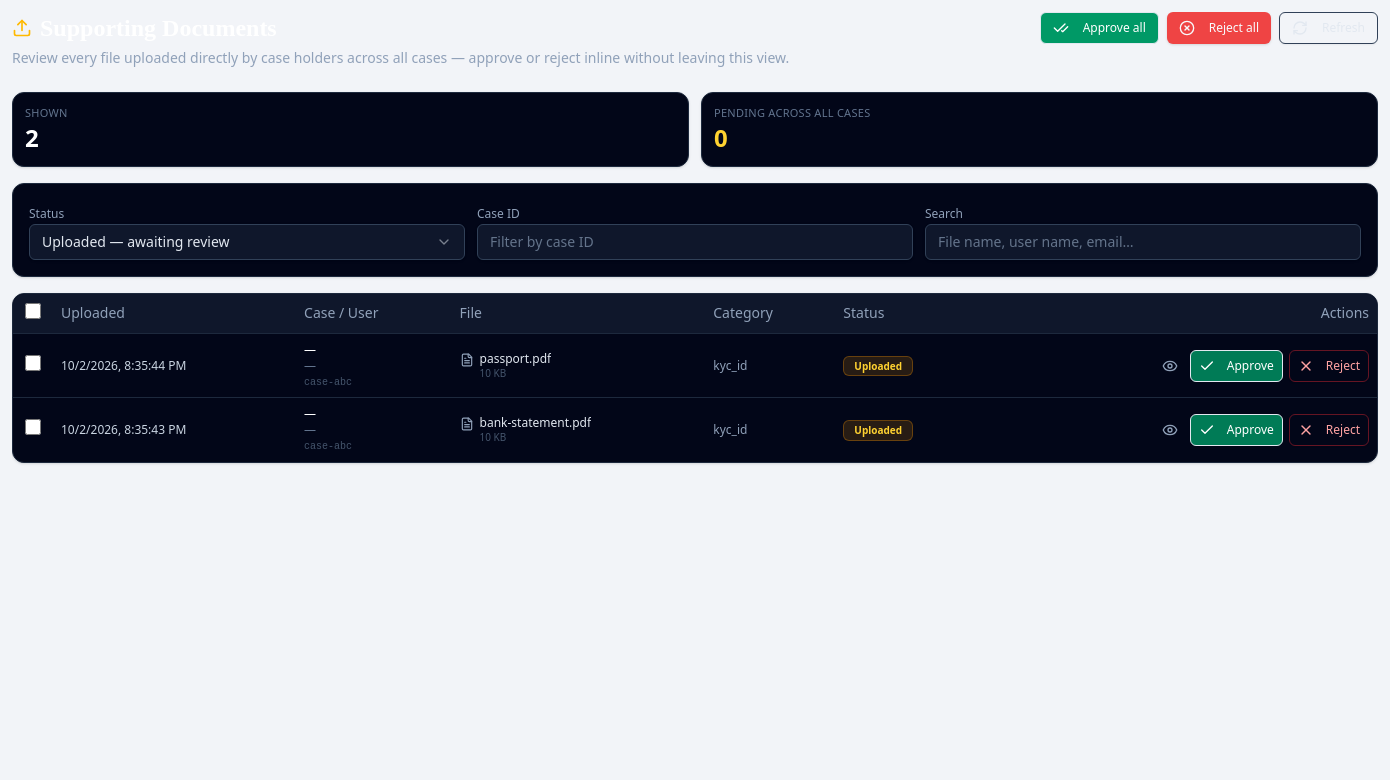
Scenario: SupportingDocumentsTab – selection persistence (Task #455) › selected IDs absent from the new result set are dropped after server reload
Expected: the row with test id "row-supporting-doc-10" is shown, [13,334,1377,398]
Click the checkbox named "Select document passport.pdf". click: (33, 363)
box: [25,355,41,371]
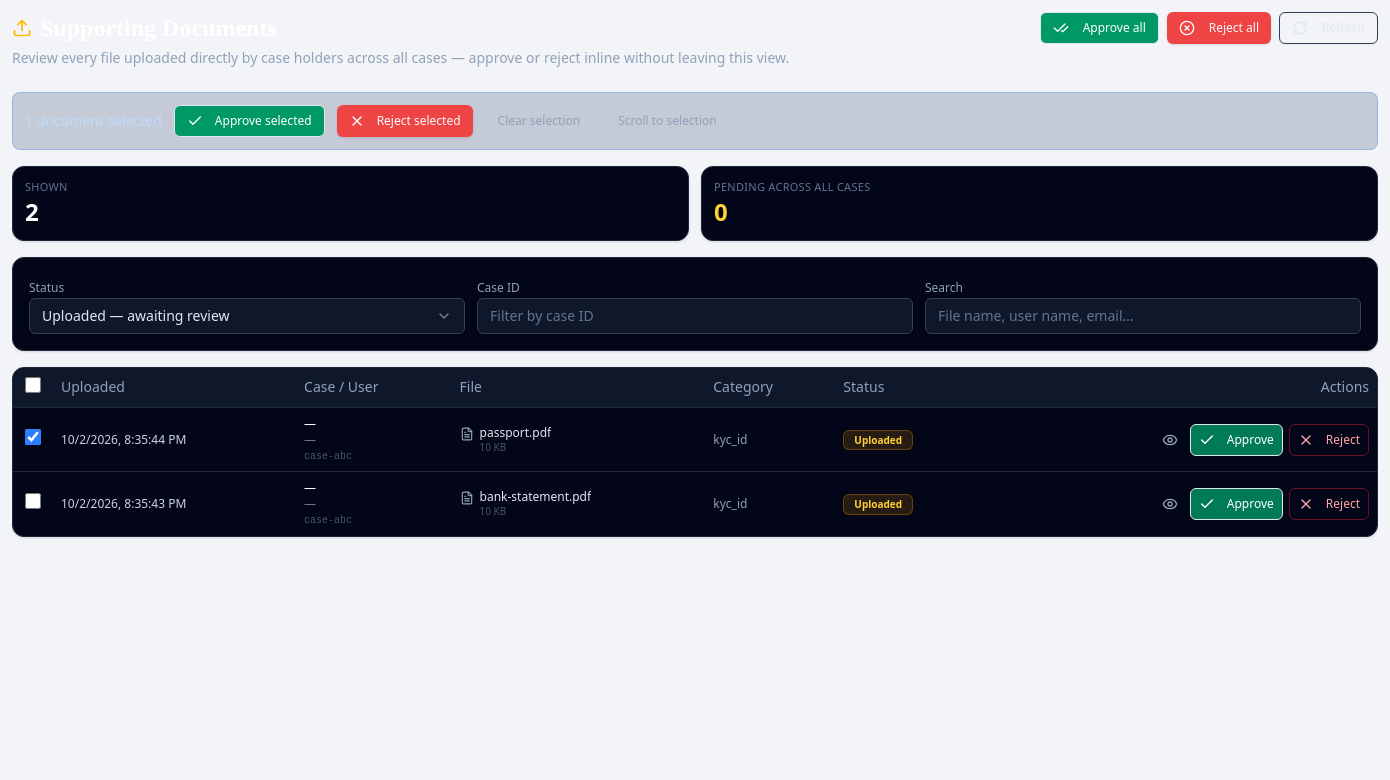
Now the element with test id "toolbar-selection-supporting-docs" is shown, box [12,92,1378,150]
Type "case-abc" into the field with test id "filter-supporting-docs-case-id". click: (695, 316)
box: [477,298,913,334]
Wait 350 ms
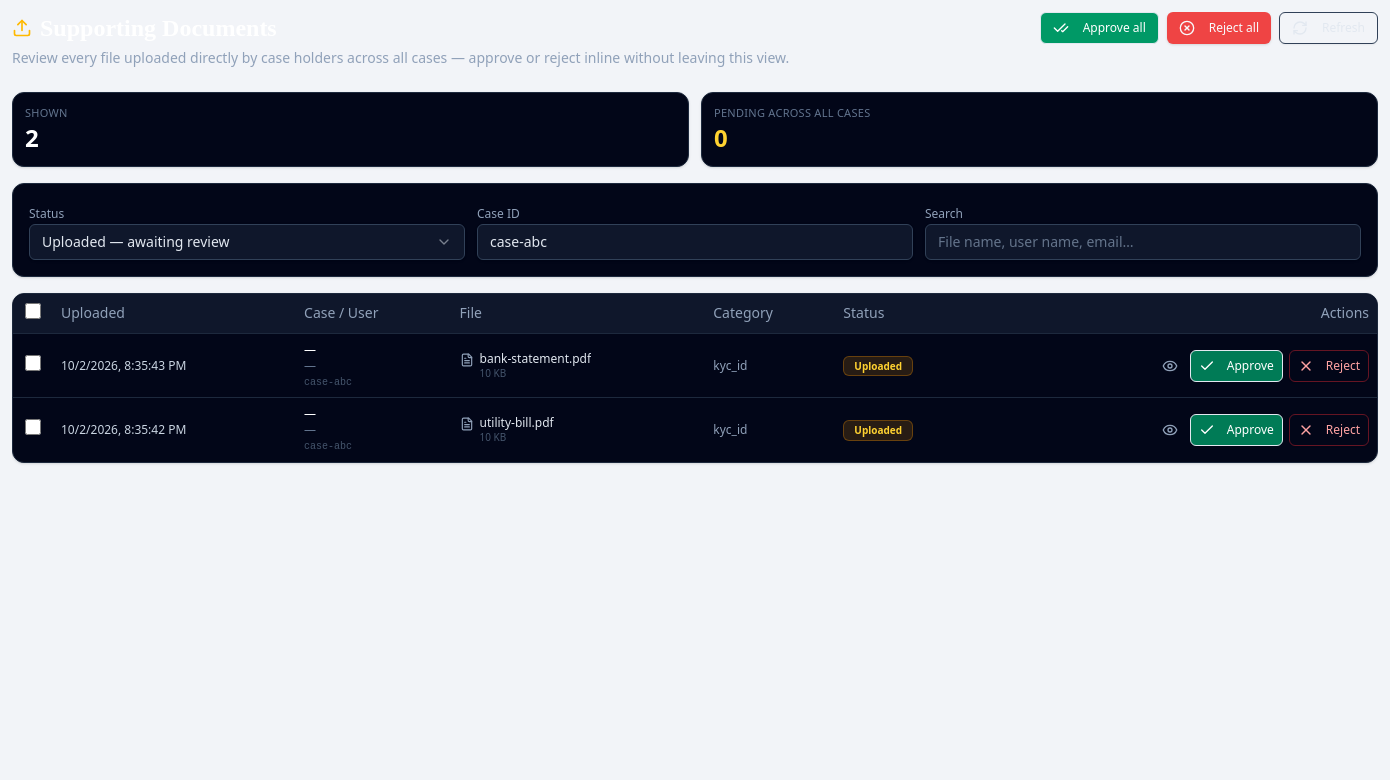
Now the row with test id "row-supporting-doc-10" is gone
Now the element with test id "toolbar-selection-supporting-docs" is gone
